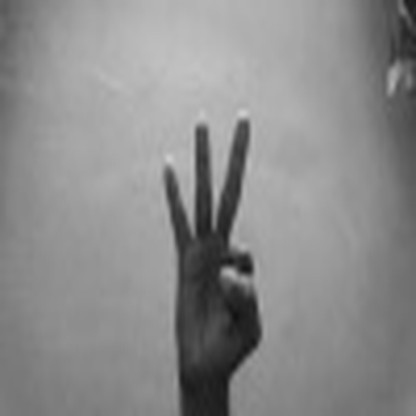f: (137, 106, 287, 390)
